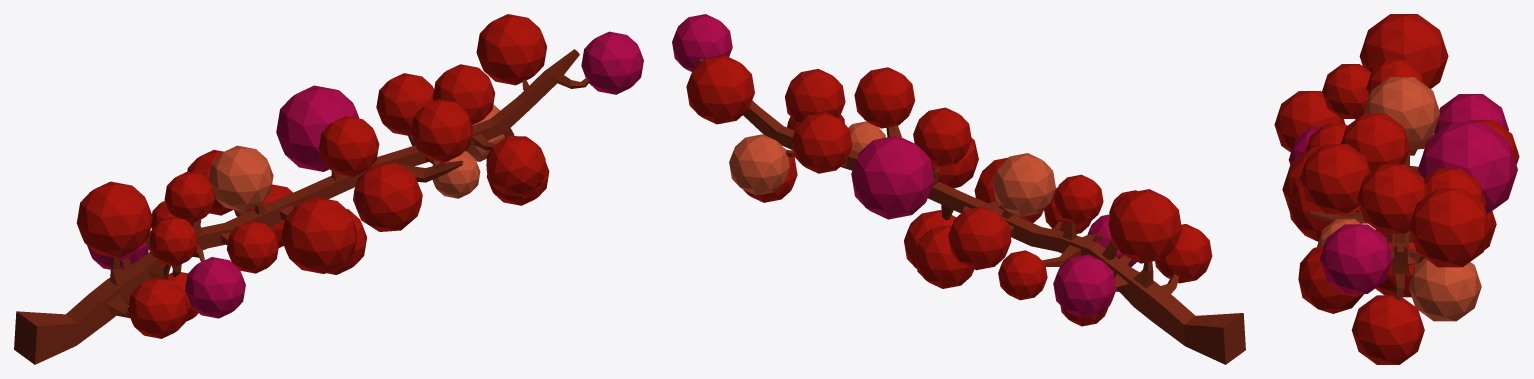
The model's file is untitled.blenduuuuu.fbx.
3 views of the same model, side by side, from view 1: azimuth 30°, elevation 25°; view 2: azimuth 150°, elevation 25°; view 3: azimuth 270°, elevation 25° (orthographic). The views are drawn at different scales.
Visible parts, largest first — view 1: Cube, Icosphere.005, Icosphere.010, Icosphere.017, Icosphere.024, Icosphere.014, Icosphere.012, Icosphere.015, Icosphere.025, Icosphere.008, Icosphere.021, Icosphere.001 (+12 smaller); view 2: Cube, Icosphere.017, Icosphere.010, Icosphere.024, Icosphere, Icosphere.003, Icosphere.012, Icosphere.015, Icosphere.016, Icosphere.022, Icosphere.018, Icosphere.020 (+12 smaller); view 3: Icosphere.024, Icosphere.017, Icosphere.010, Icosphere.025, Icosphere.023, Icosphere.015, Icosphere.020, Icosphere.022, Icosphere.012, Icosphere.018, Icosphere.001, Icosphere.002 (+12 smaller).
Part boxes in pixels (<box>): Cube: <box>14,49,589,364</box>; Icosphere.005: <box>281,197,357,273</box>; Icosphere.010: <box>76,181,152,258</box>; Icosphere.017: <box>276,85,359,171</box>; Icosphere.024: <box>476,14,547,85</box>; Icosphere.014: <box>353,162,422,231</box>; Icosphere.012: <box>208,145,273,211</box>; Icosphere.015: <box>410,99,473,162</box>; Icosphere.025: <box>581,31,643,94</box>; Icosphere.008: <box>185,257,245,318</box>; Icosphere.021: <box>486,136,545,195</box>; Icosphere.001: <box>127,277,188,338</box>; Cube: <box>697,58,1245,364</box>; Icosphere.017: <box>851,135,934,219</box>; Icosphere.010: <box>1108,189,1181,263</box>; Icosphere.024: <box>686,55,754,124</box>; Icosphere: <box>1053,254,1116,318</box>; Icosphere.003: <box>948,206,1011,270</box>; Icosphere.012: <box>992,153,1055,216</box>; Icosphere.015: <box>854,67,915,128</box>; Icosphere.016: <box>791,112,852,173</box>; Icosphere.022: <box>729,134,789,195</box>; Icosphere.018: <box>913,107,971,166</box>; Icosphere.020: <box>785,69,845,123</box>; Icosphere.024: <box>1409,188,1491,267</box>; Icosphere.017: <box>1418,122,1517,214</box>; Icosphere.010: <box>1359,14,1448,88</box>; Icosphere.025: <box>1320,224,1392,293</box>; Icosphere.023: <box>1351,295,1424,364</box>; Icosphere.015: <box>1300,144,1370,213</box>; Icosphere.020: <box>1357,164,1428,233</box>; Icosphere.022: <box>1408,258,1481,321</box>; Icosphere.012: <box>1364,77,1440,149</box>; Icosphere.018: <box>1341,113,1410,172</box>; Icosphere.001: <box>1274,91,1345,152</box>; Icosphere.002: <box>1322,64,1371,118</box>.
Bounding box in the file's own units: 2069 × 675 × 645.
